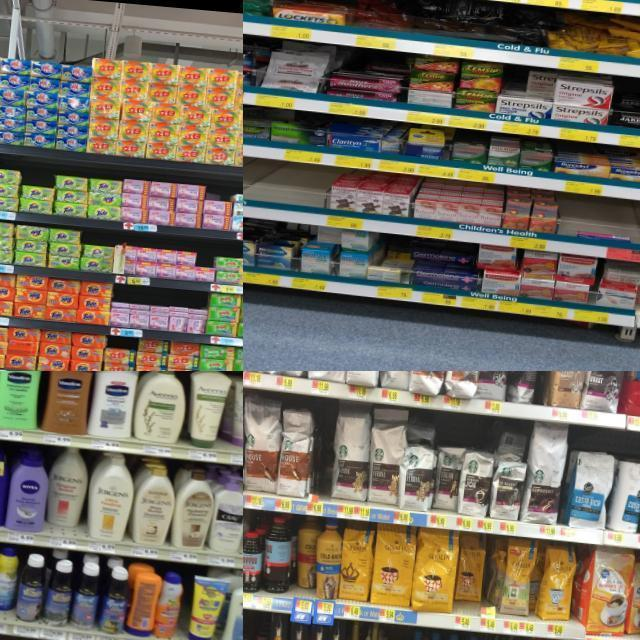Imprecise: (449, 531, 506, 627), (400, 408, 442, 511), (46, 444, 85, 542), (494, 427, 530, 519), (504, 68, 561, 124), (290, 512, 320, 598)
